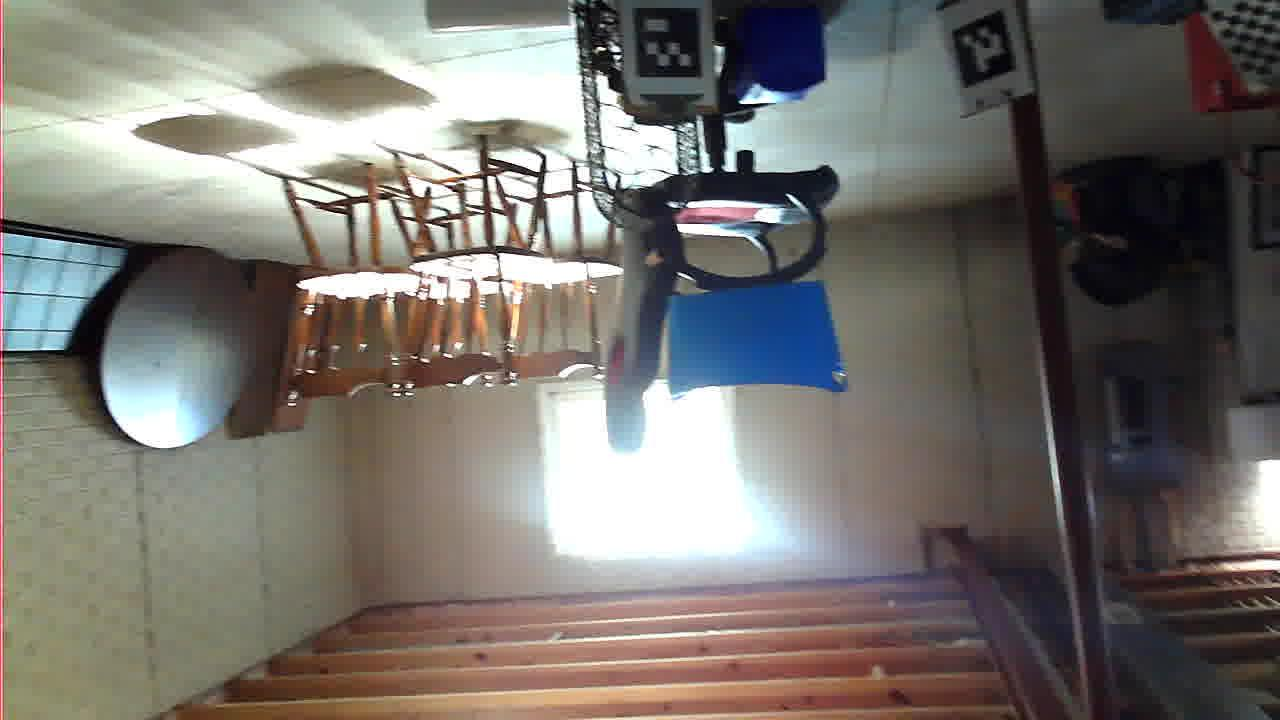coral: (708, 686, 856, 720)
